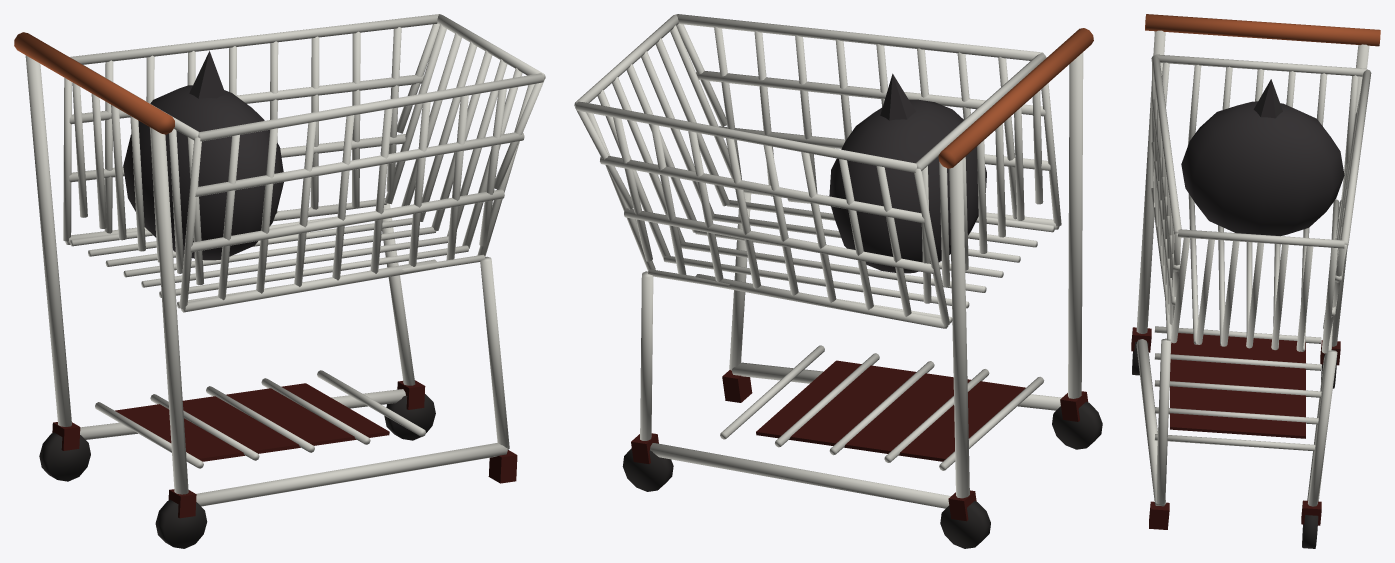
Rendered from cart.glb.
3 views of the same model, side by side, from view 1: azimuth 30°, elevation 25°; view 2: azimuth 150°, elevation 25°; view 3: azimuth 270°, elevation 25° (orthographic). The views are drawn at different scales.
Parts seen in each view (by area): view 1: bag, tray_rust, leg_1, leg_-1, base_-1, handle, rail_1_95, rail_-1_95, rail_-1_82, rail_-1_69, rail_-1_55, strut_-1 (+52 smaller); view 2: tray_rust, bag, leg_-1, leg_1, base_1, handle, rail_-1_95, rail_1_95, rail_1_82, rail_1_69, rail_-1_82, rail_1_55 (+51 smaller); view 3: bag, tray_rust, handle, leg_-1, back_top, strut_-1, strut_1, base_-1, rail_1_95, rail_-1_95, front_top, tray_4 (+31 smaller).
Boxes of the visible parts, x1,y1,x2,y2 form: bag: (123, 85, 283, 260); tray_rust: (115, 383, 389, 461); leg_1: (25, 55, 71, 426); leg_-1: (151, 128, 188, 494); base_-1: (196, 442, 507, 506); handle: (14, 32, 174, 134); rail_1_95: (69, 14, 439, 64); rail_-1_95: (198, 73, 544, 141); rail_-1_82: (195, 132, 524, 196); rail_-1_69: (190, 189, 504, 252); rail_-1_55: (181, 259, 436, 312); strut_-1: (480, 256, 509, 449); tray_rust: (756, 360, 1025, 461); bag: (829, 99, 986, 273); leg_-1: (1068, 52, 1083, 398); leg_1: (949, 159, 969, 498); base_1: (650, 443, 950, 508); handle: (938, 28, 1093, 168); rail_-1_95: (676, 14, 1043, 60); rail_1_95: (575, 101, 917, 172); rail_1_82: (600, 156, 924, 223); rail_1_69: (624, 208, 934, 273); rail_-1_82: (696, 71, 1045, 116); rail_1_55: (695, 274, 948, 328); bag: (1181, 101, 1344, 235); tray_rust: (1170, 333, 1305, 438); handle: (1145, 14, 1380, 46); leg_-1: (1136, 30, 1165, 333); back_top: (1156, 54, 1366, 76); strut_-1: (1155, 338, 1171, 504); strut_1: (1308, 350, 1337, 506); base_-1: (1136, 339, 1165, 506); rail_1_95: (1341, 69, 1371, 246); rail_-1_95: (1151, 55, 1181, 234); front_top: (1178, 229, 1344, 248); tray_4: (1154, 434, 1315, 451).
Size of the model in its own units: 1.03 by 1.15 by 0.6575.
